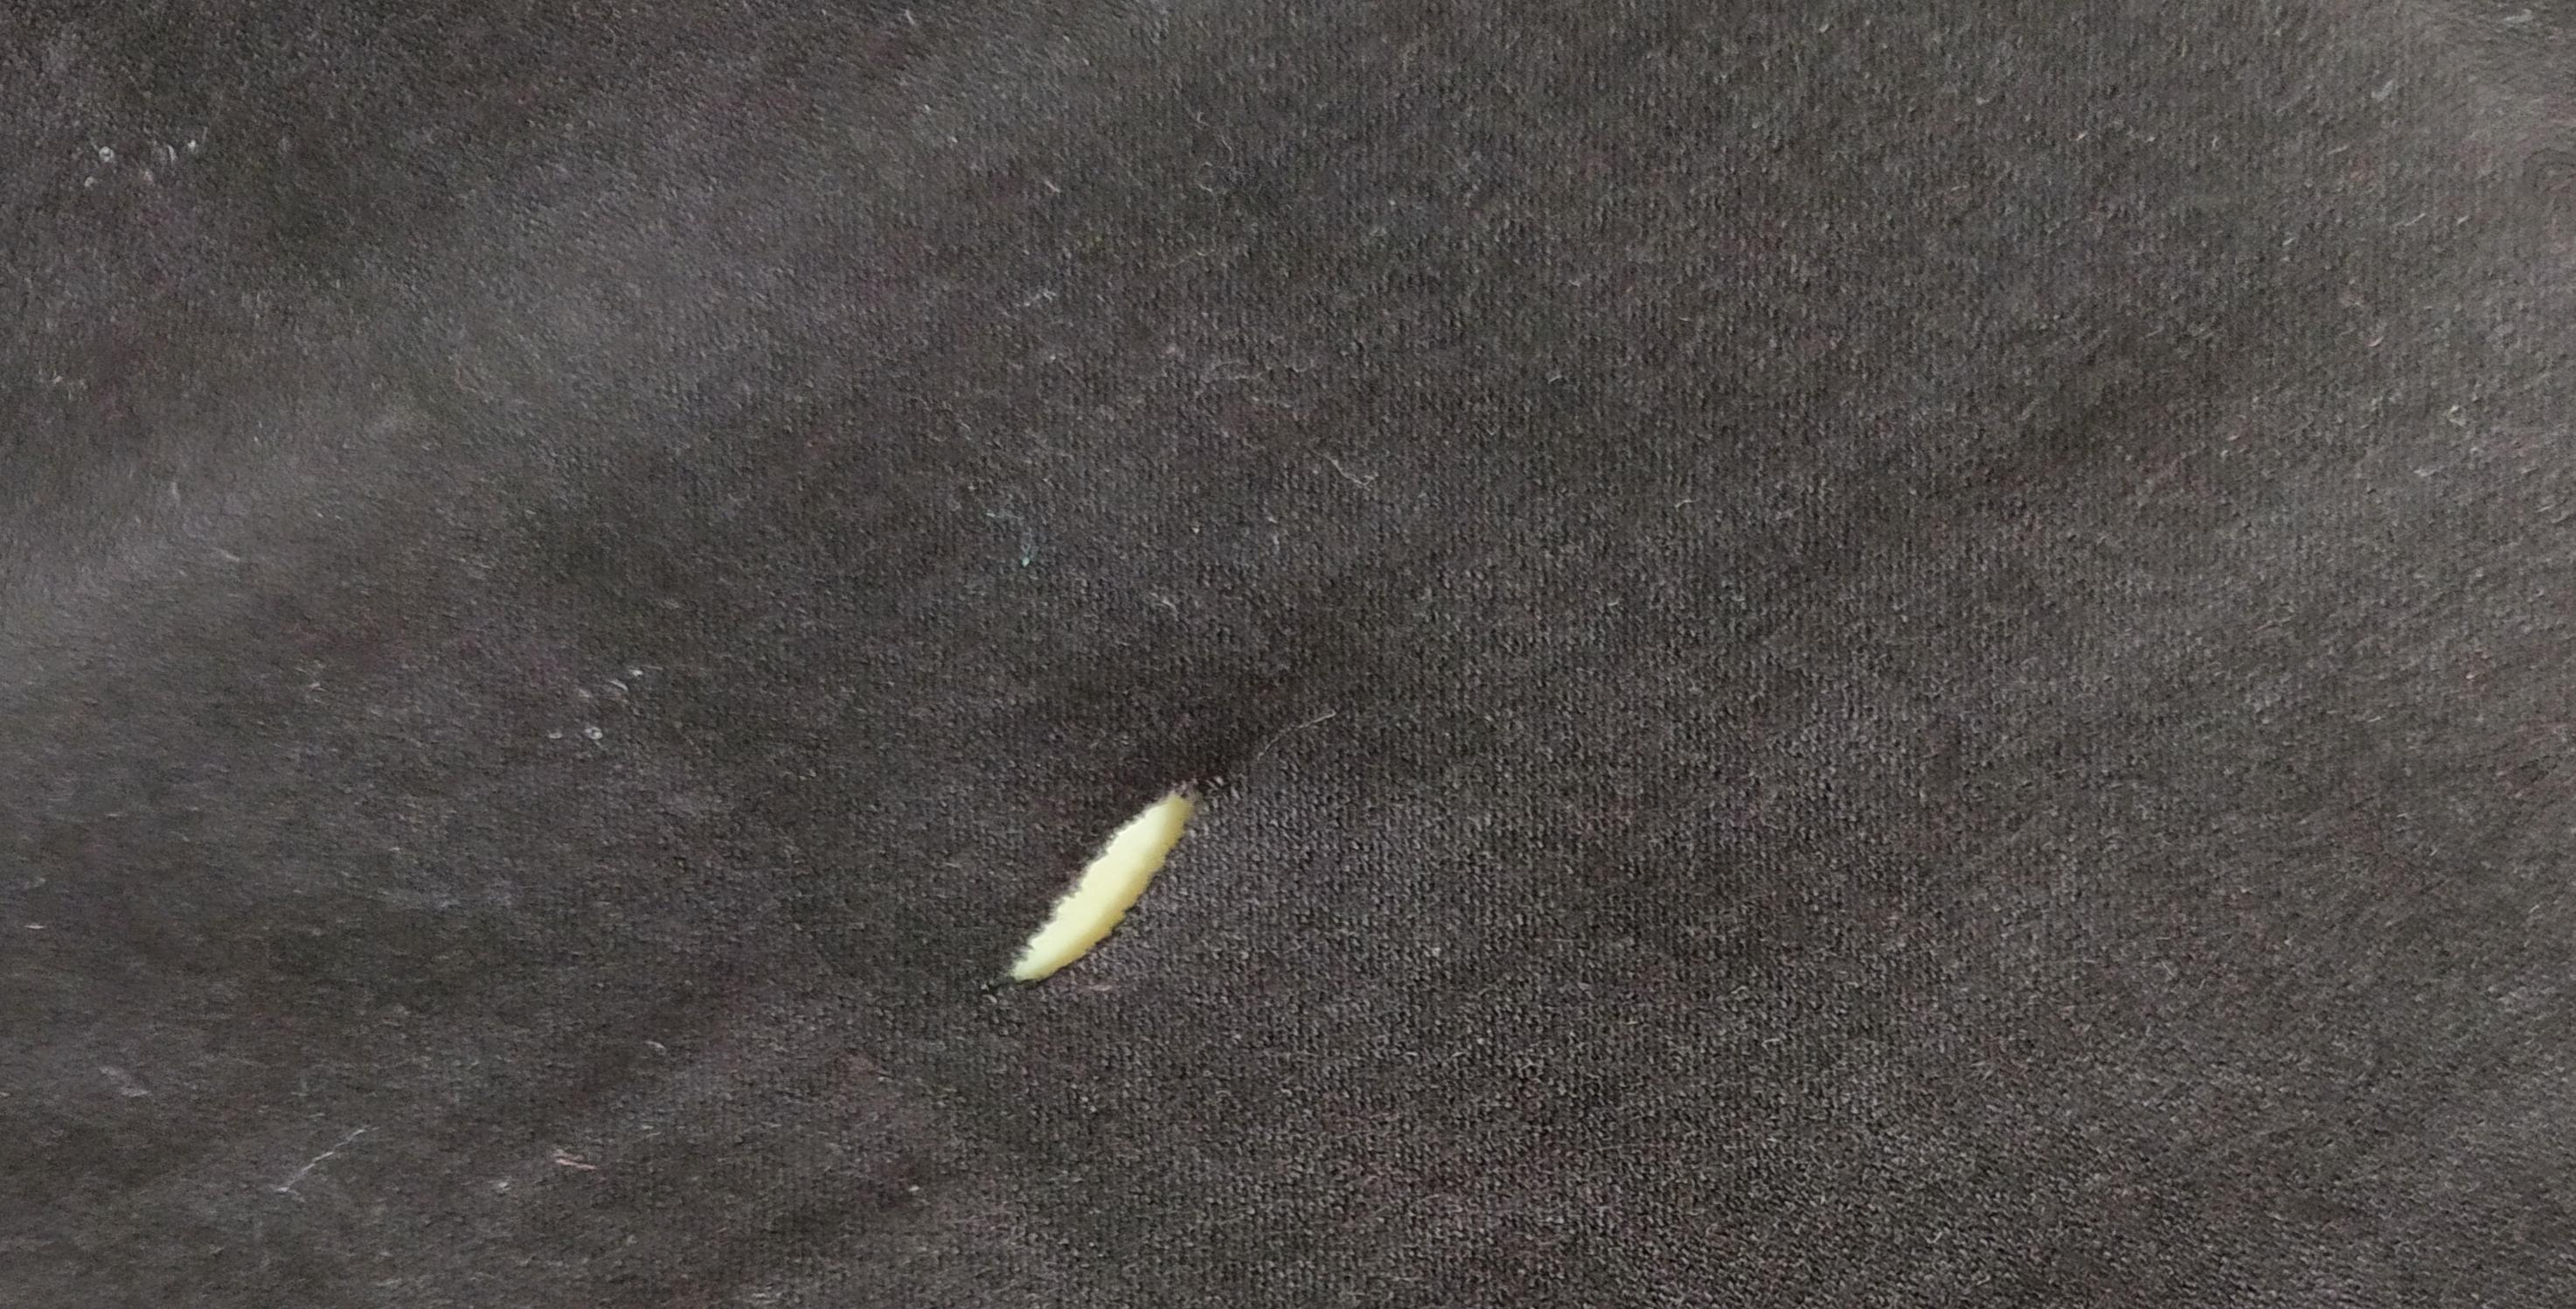hole: (1001, 773, 1220, 992)
